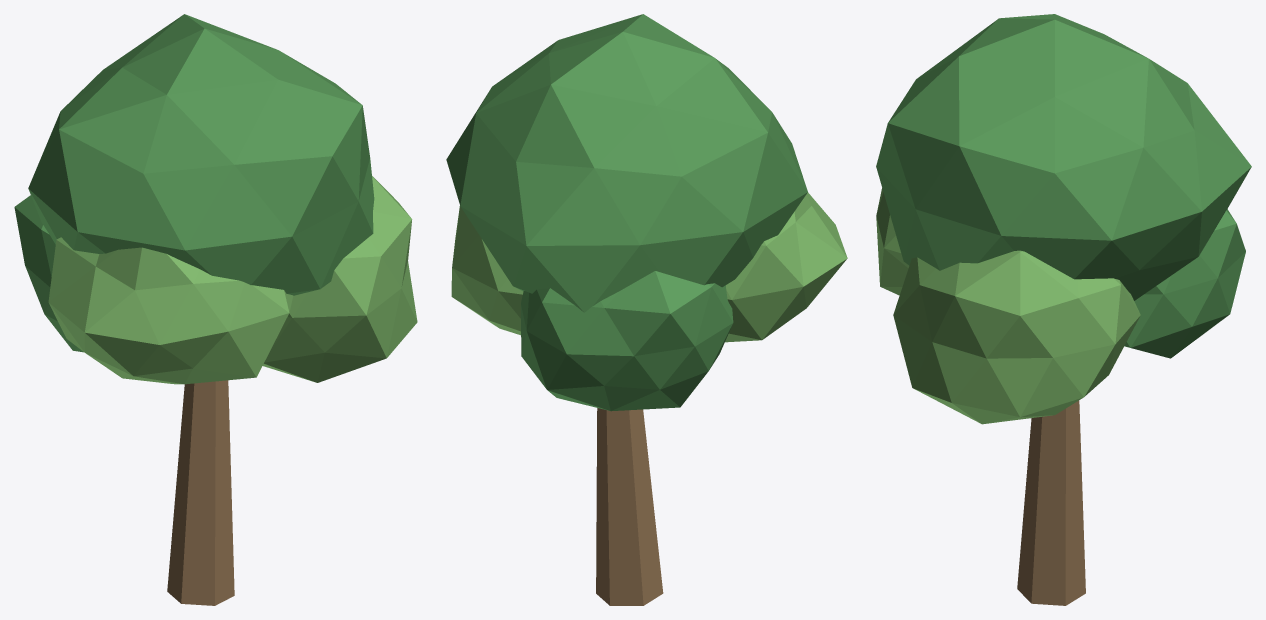
File: tree.glb
3 views of the same model, side by side, from view 1: azimuth 30°, elevation 25°; view 2: azimuth 150°, elevation 25°; view 3: azimuth 270°, elevation 25° (orthographic). The views are drawn at different scales.
Parts seen in each view (by area): view 1: Tree; view 2: Tree; view 3: Tree.
Part boxes in pixels (x1,y1,x2,y2): Tree: (14, 14, 417, 605); Tree: (446, 14, 847, 605); Tree: (876, 14, 1251, 605).
Size of the model in its own units: 2.62 by 4.04 by 2.39.
